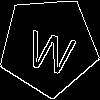W: (24, 21, 79, 76)
